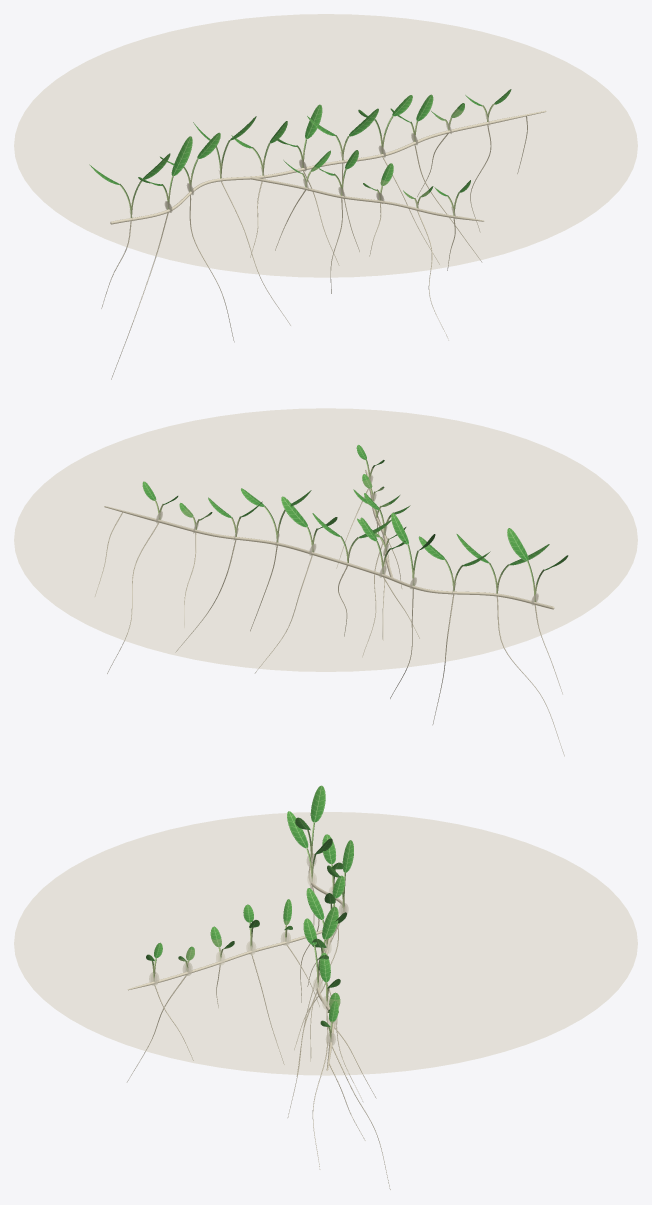
The model's file is halophila-minor.glb.
3 views of the same model, one above another, from view 1: azimuth 30°, elevation 25°; view 2: azimuth 150°, elevation 25°; view 3: azimuth 270°, elevation 25° (orthographic).
Parts seen in each view (by area): view 1: Sediment, LeafBlades, Roots, Rhizome, Petioles, Scales; view 2: Sediment, LeafBlades, Roots, Rhizome, Petioles; view 3: Sediment, LeafBlades, Roots, Scales, Rhizome, Petioles.
Part boxes in pixels (x1=…): Sediment: x1=14, y1=14, x2=637, y2=277; LeafBlades: x1=89, y1=89, x2=511, y2=198; Roots: x1=101, y1=116, x2=527, y2=379; Rhizome: x1=110, y1=110, x2=546, y2=224; Petioles: x1=119, y1=104, x2=493, y2=217; Scales: x1=130, y1=113, x2=489, y2=218; Sediment: x1=14, y1=408, x2=637, y2=671; LeafBlades: x1=142, y1=445, x2=568, y2=570; Roots: x1=95, y1=488, x2=564, y2=756; Rhizome: x1=104, y1=470, x2=554, y2=609; Petioles: x1=155, y1=459, x2=543, y2=601; Sediment: x1=14, y1=812, x2=637, y2=1075; LeafBlades: x1=146, y1=785, x2=353, y2=1027; Roots: x1=126, y1=885, x2=390, y2=1190; Scales: x1=149, y1=854, x2=348, y2=1045; Rhizome: x1=127, y1=853, x2=343, y2=1070; Petioles: x1=151, y1=823, x2=345, y2=1039.
Size of the model in its own units: 0.1837 by 0.0699 by 0.1837.
Materials: 6 (1 with a texture image).
